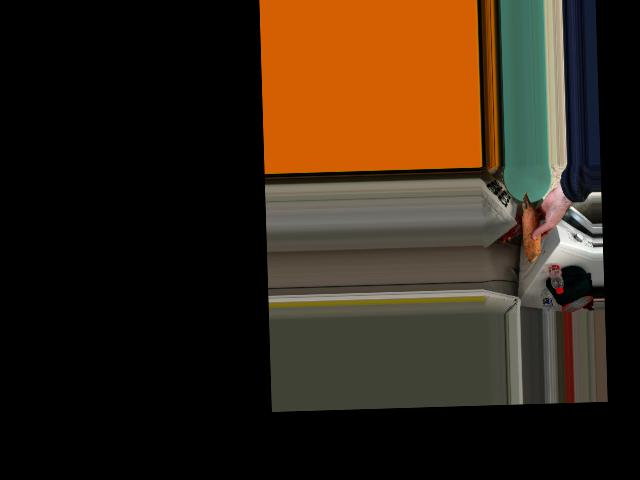sweet_potato: (520, 191, 545, 258)
